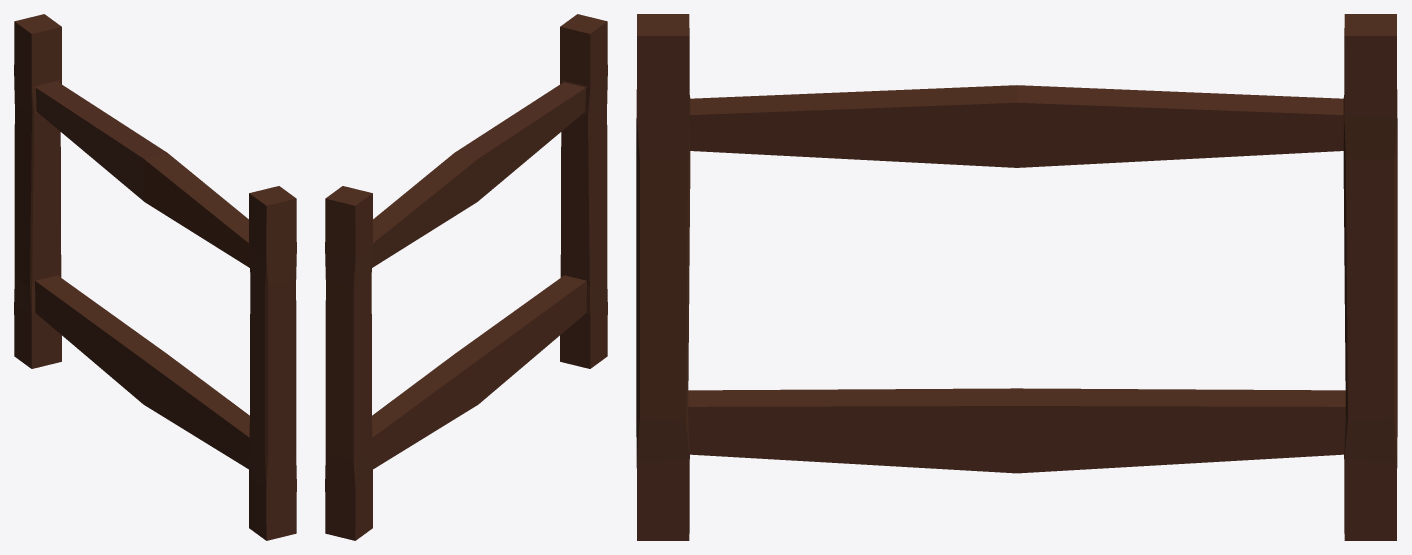
The model's file is fence.fbx.
3 renders of one model, left to right at view 1: azimuth 30°, elevation 25°; view 2: azimuth 150°, elevation 25°; view 3: azimuth 270°, elevation 25°, orthographic. The views are drawn at different scales.
Parts seen in each view (by area): view 1: Cube; view 2: Cube; view 3: Cube.
Boxes of the visible parts, bbox=[...] form: Cube: bbox=[14, 14, 296, 540]; Cube: bbox=[325, 14, 607, 540]; Cube: bbox=[636, 14, 1397, 540].
Bounding box in the file's own units: 13.56 × 139 × 190.
